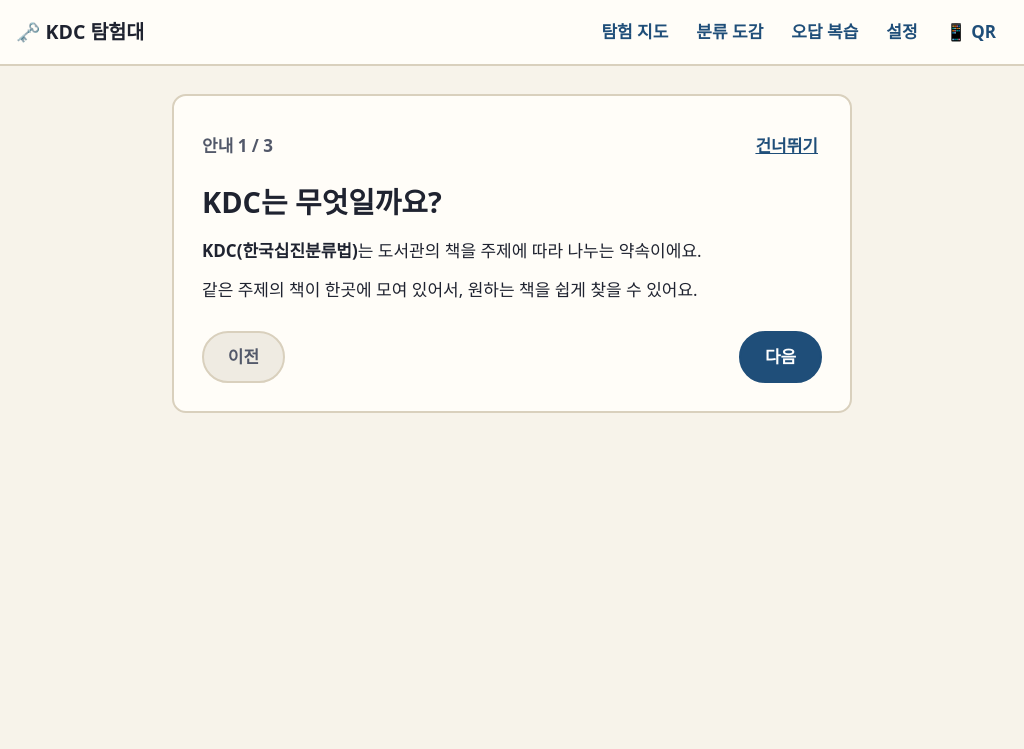
Test: SCR-02 튜토리얼 › 다음 버튼으로 끝까지 넘기고 구역 탐험으로 간다
Expected: the button "이전" is disabled, [202,331,285,383]
Click the button "다음" at (781, 357), box [739,331,822,383]
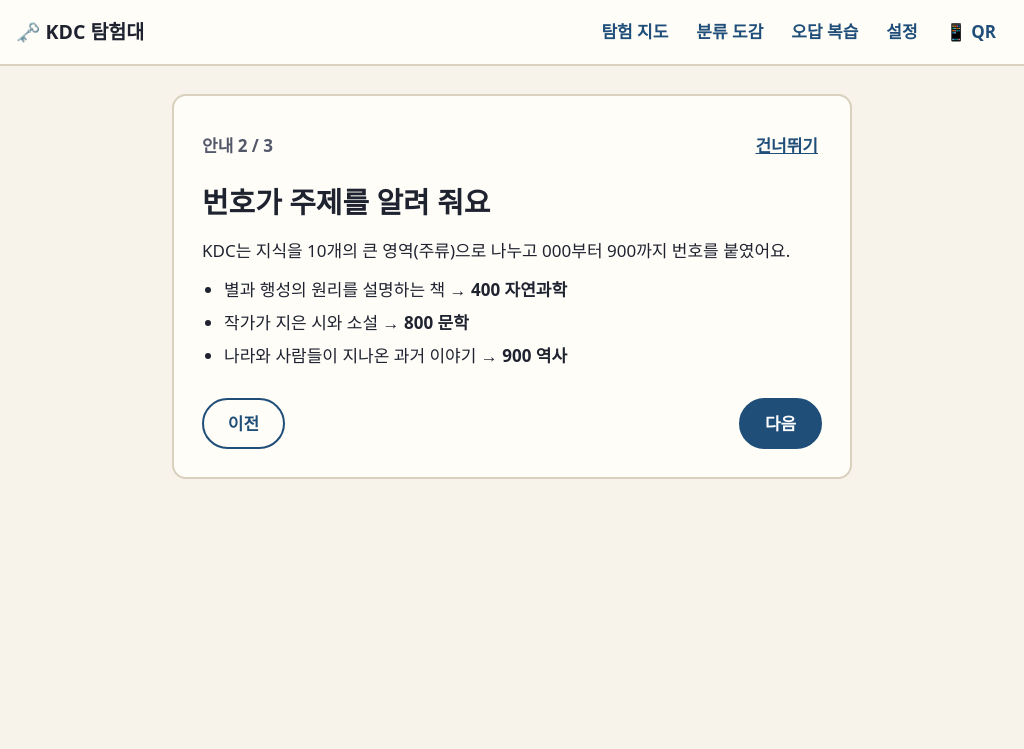
Click the button "다음" at (781, 423), box [739,398,822,449]
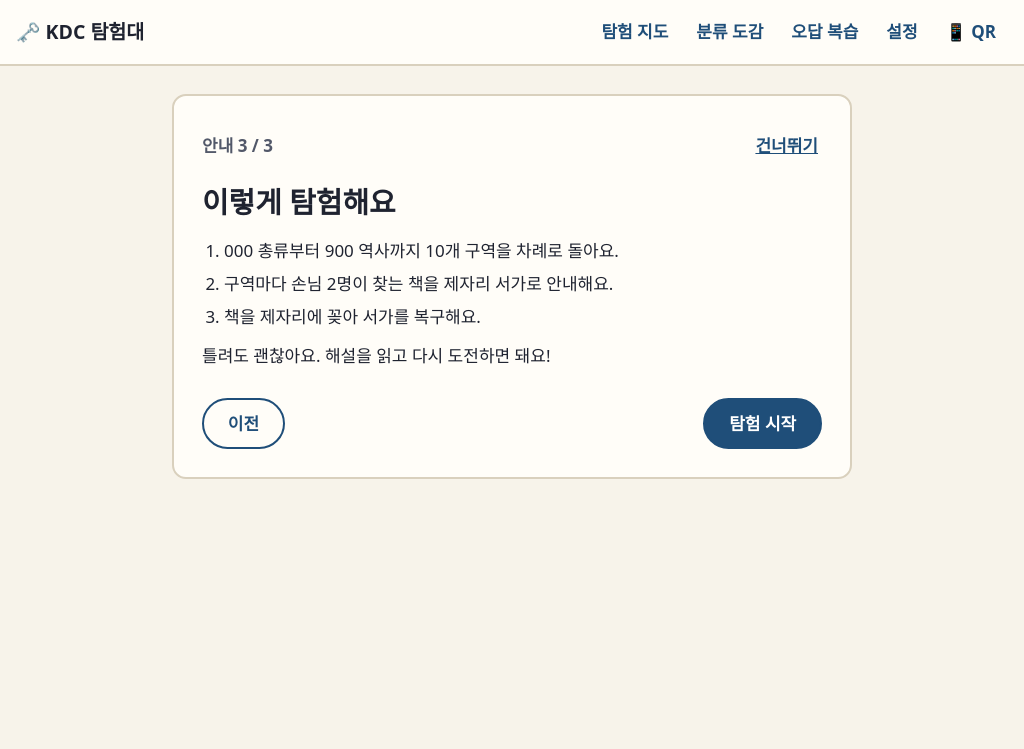
Click the button "탐험 시작" at (763, 423), box [703,398,822,449]
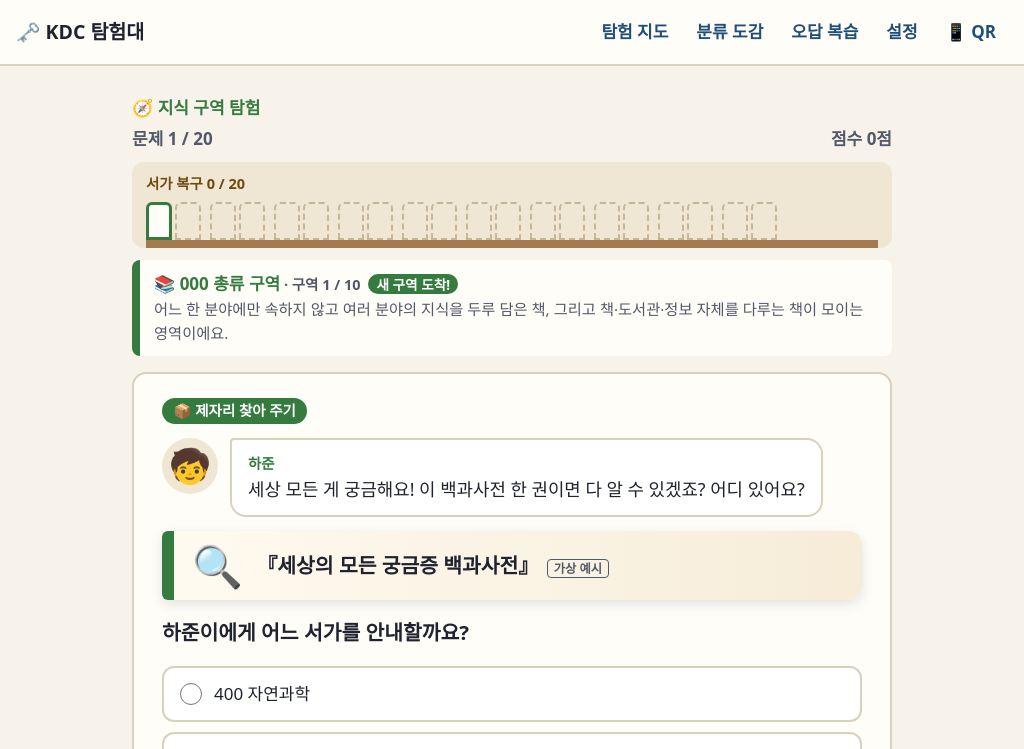
Now the text "지식 구역 탐험" is shown, box [158,96,260,119]
Now the text "문제 1 / 20" is shown, box [132,125,213,152]
